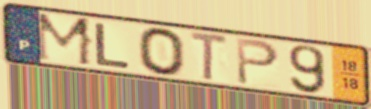9: (287, 44, 327, 96)
L: (94, 21, 133, 70)
M: (35, 11, 95, 69)
O: (136, 26, 188, 78)
P: (234, 36, 282, 87)
T: (189, 29, 231, 83)
